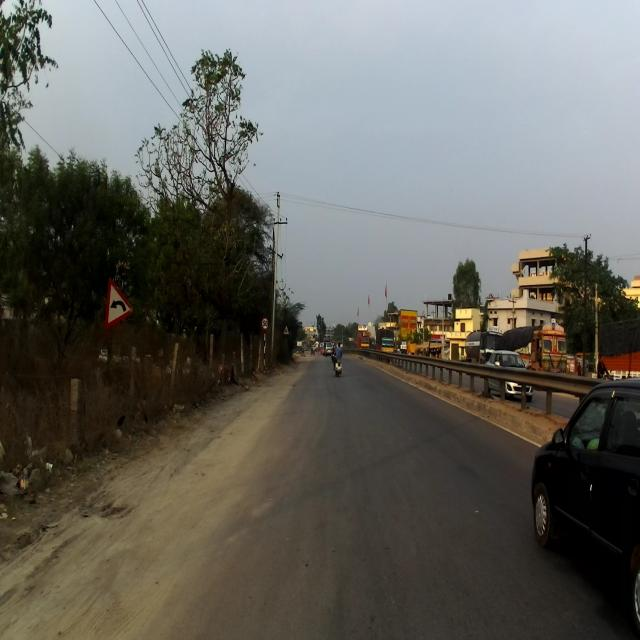Car_Maruti-Suzuki: (528, 376, 640, 634)
scooter: (333, 354, 342, 376)
